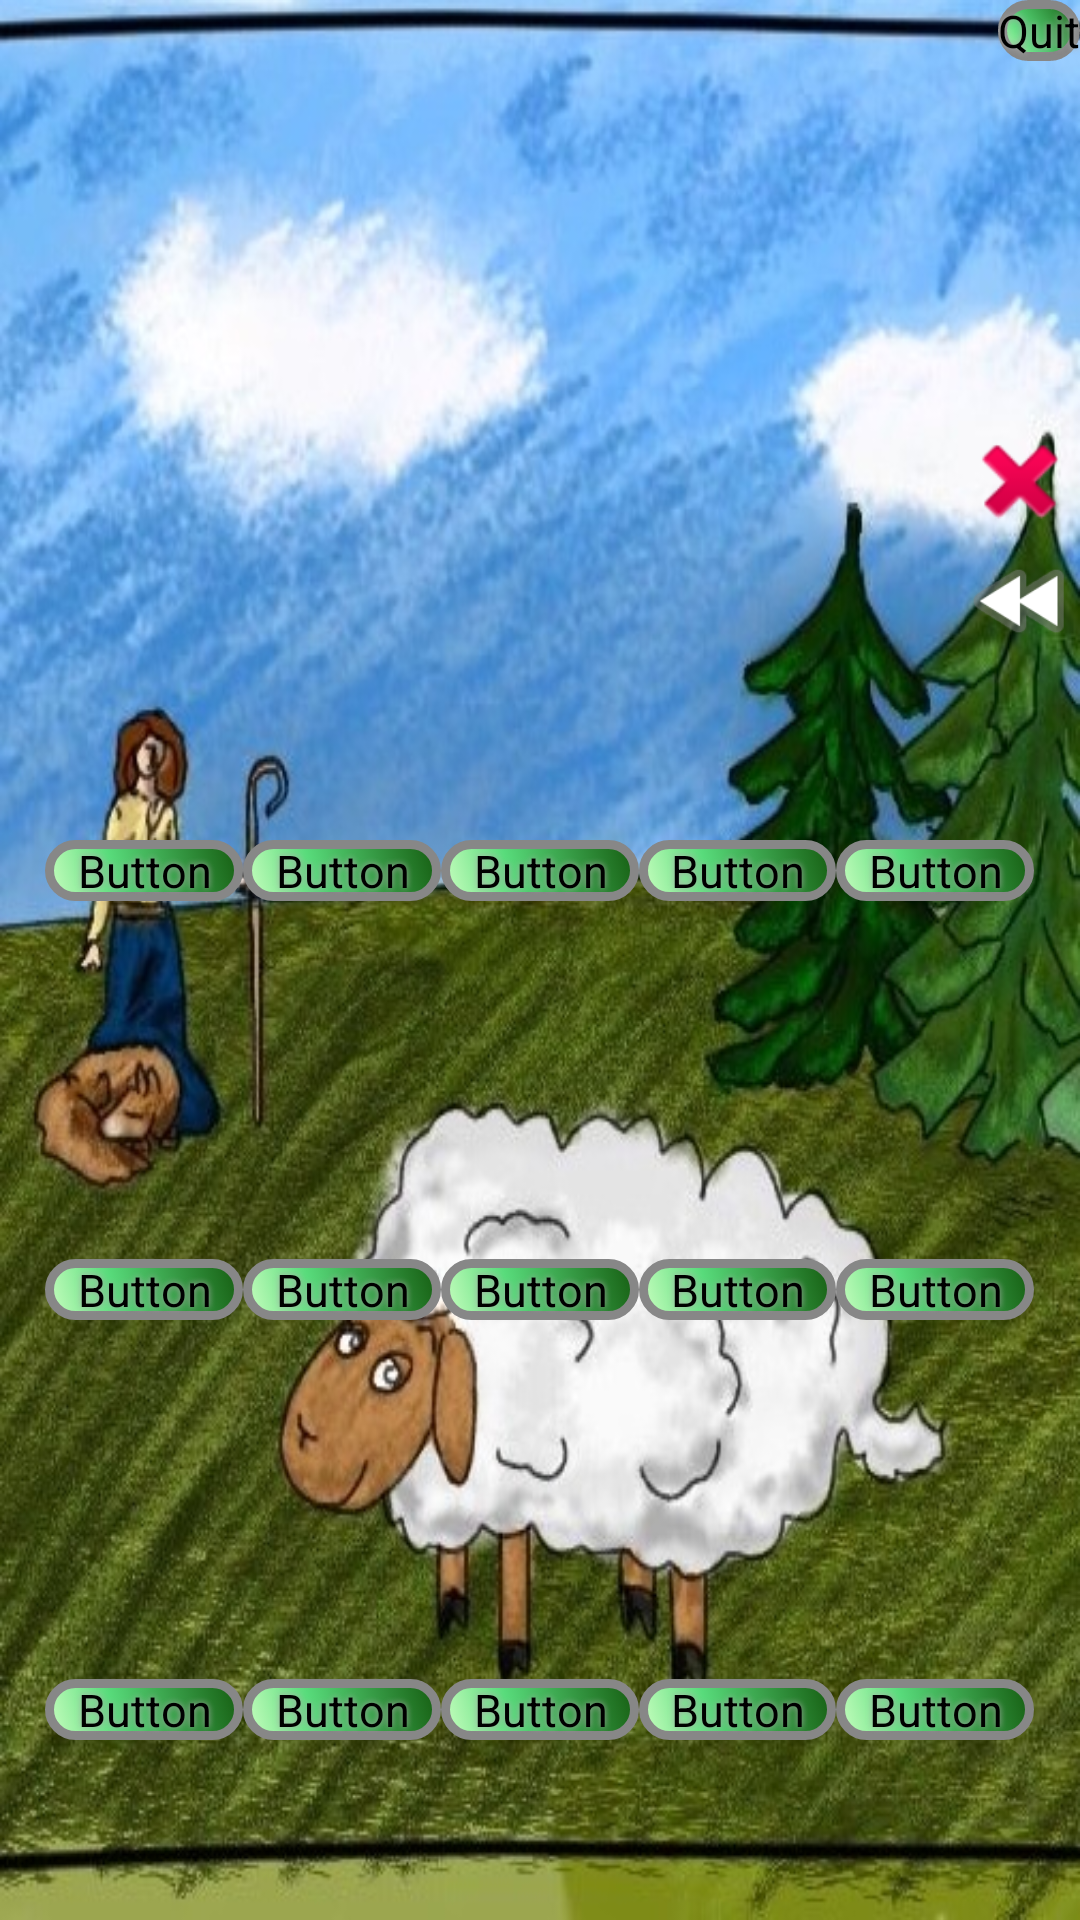

Icons on this 1080px×1920px Android screen, each with the point to tap as (x,y):
Clear input: (1020,481)
Delete last letter: (1020,601)
